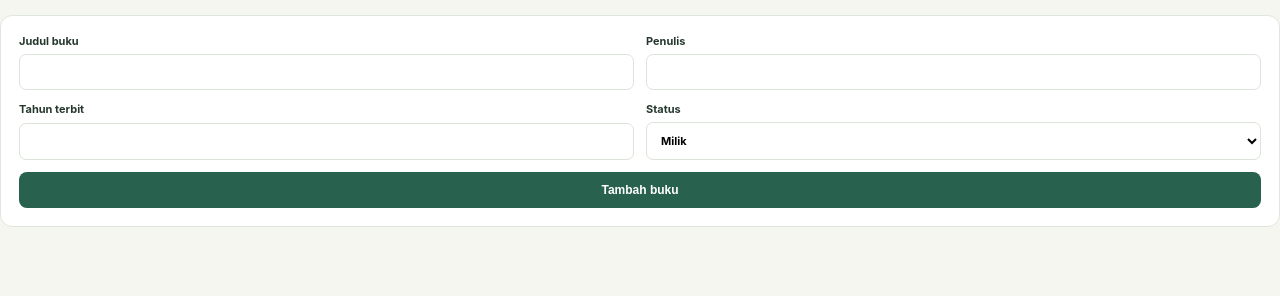
Test: menolak isian kosong
The width and height of the screenshot is (1280, 296).
Click the button "Tambah buku" at (640, 190), box x1=19 y1=172 x2=1261 y2=208
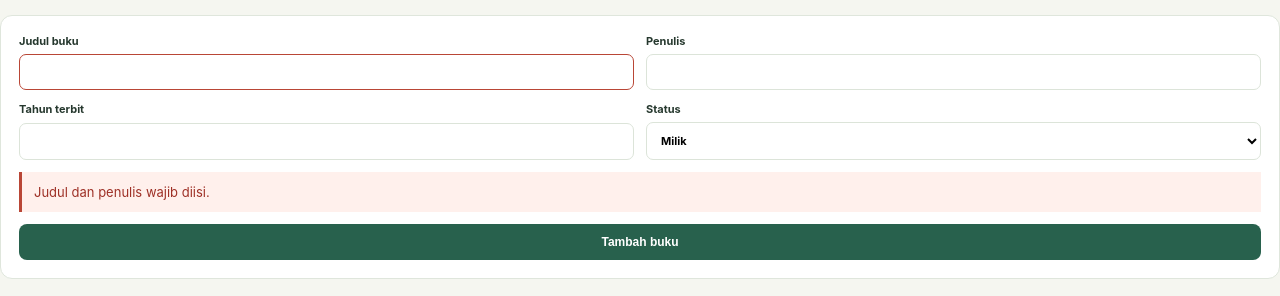
Result: the message shows "wajib diisi" at x1=34 y1=184 x2=210 y2=200
